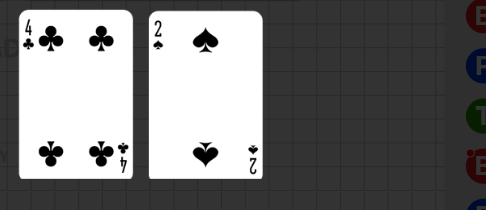2S: (246, 142, 260, 176)
4C: (22, 19, 37, 53)
